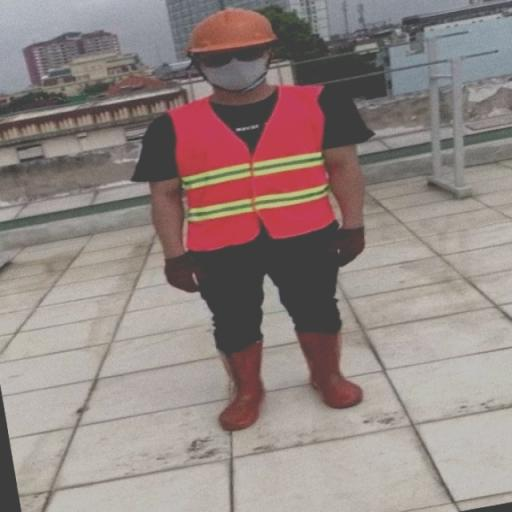Person: (109, 0, 420, 462)
boots: (292, 322, 362, 406), (207, 338, 261, 432)
gloves: (159, 248, 204, 294), (329, 222, 372, 270)
goggles: (192, 40, 276, 69)
helmet: (189, 4, 276, 62)
vest: (161, 94, 341, 252)
